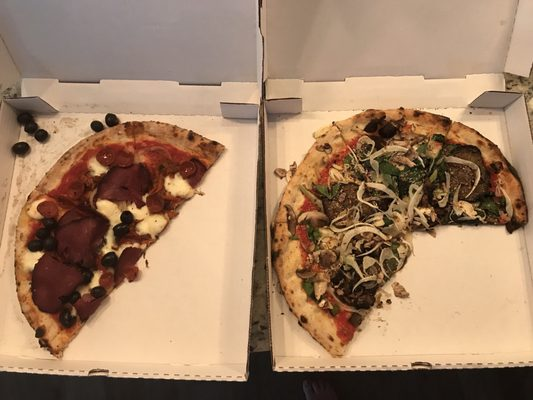sandwich: (272, 107, 532, 357), (14, 117, 226, 356)
